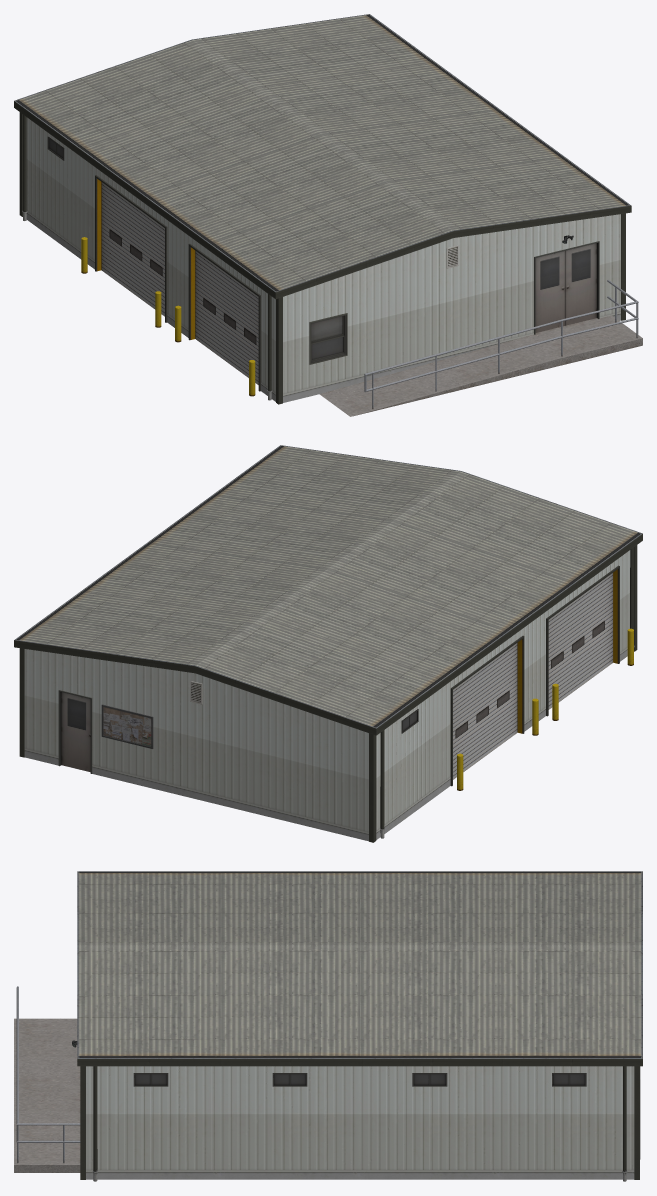
File: IJ54RJ6X07QY2U4UKGQE0OJQC.fbx
The picture shows the model from 3 angles, top to bottom: view 1: azimuth 30°, elevation 25°; view 2: azimuth 150°, elevation 25°; view 3: azimuth 270°, elevation 25°; orthographic projection. The views are drawn at different scales.
Visible parts, largest first — view 1: Object_TexMap; view 2: Object_TexMap; view 3: Object_TexMap.
Boxes of the visible parts, left/top/right/bottom form: Object_TexMap: left=14, top=14, right=642, bottom=416; Object_TexMap: left=14, top=445, right=642, bottom=842; Object_TexMap: left=14, top=871, right=642, bottom=1181.
Size of the model in its own units: 1.81 by 0.6263 by 2.5.
1 material, 1 textured.
